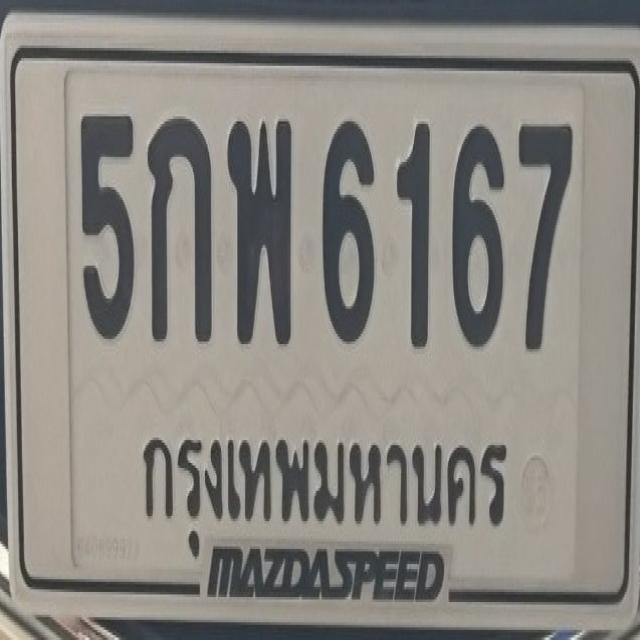license_plate: (0, 5, 640, 627)
